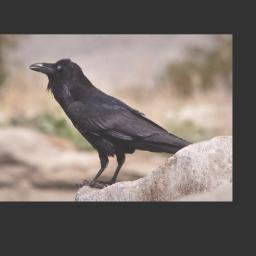Crow: (27, 54, 195, 186)
